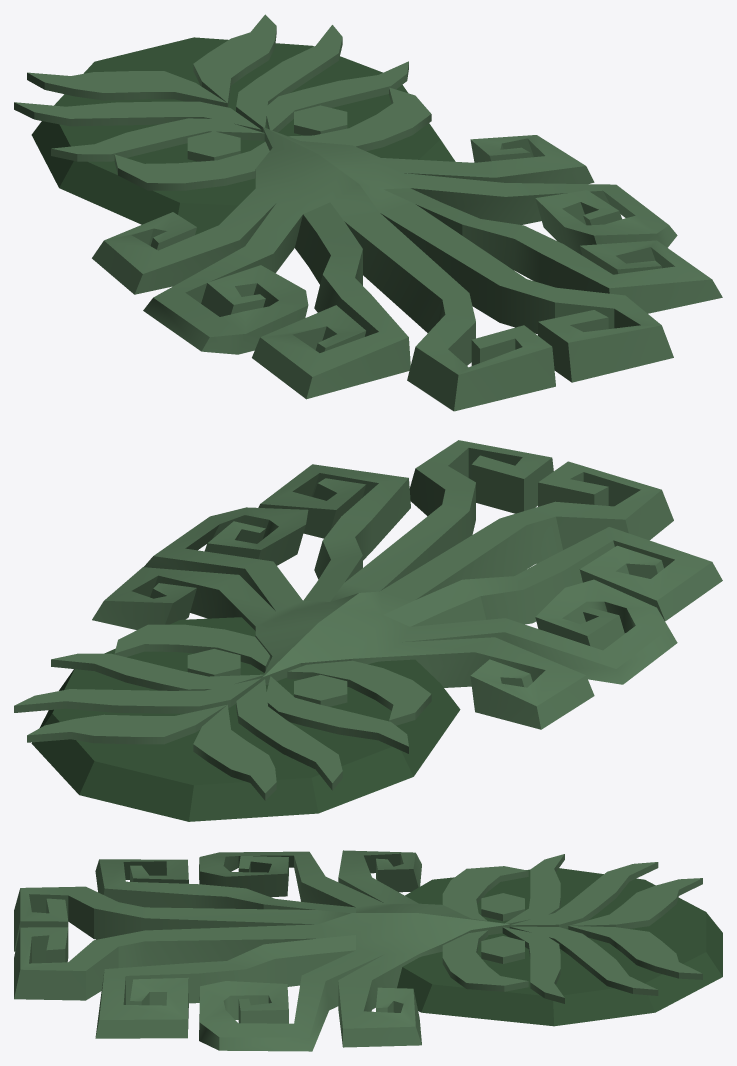
The model's file is mural_cthulhu.fbx.
3 renders of one model, top to bottom at view 1: azimuth 30°, elevation 25°; view 2: azimuth 150°, elevation 25°; view 3: azimuth 270°, elevation 25°, orthographic. The views are drawn at different scales.
Parts seen in each view (by area): view 1: cthulu_statue_top, cthulhu_head; view 2: cthulu_statue_top, cthulhu_head; view 3: cthulu_statue_top, cthulhu_head.
Part boxes in pixels (x1=…): cthulu_statue_top: x1=14, y1=14, x2=722, y2=411; cthulhu_head: x1=31, y1=37, x2=455, y2=234; cthulu_statue_top: x1=14, y1=440, x2=722, y2=800; cthulhu_head: x1=31, y1=617, x2=460, y2=821; cthulu_statue_top: x1=14, y1=850, x2=702, y2=1051; cthulhu_head: x1=397, y1=868, x2=722, y2=1026.
Bounding box in the file's own units: 13.53 × 1.37 × 21.
